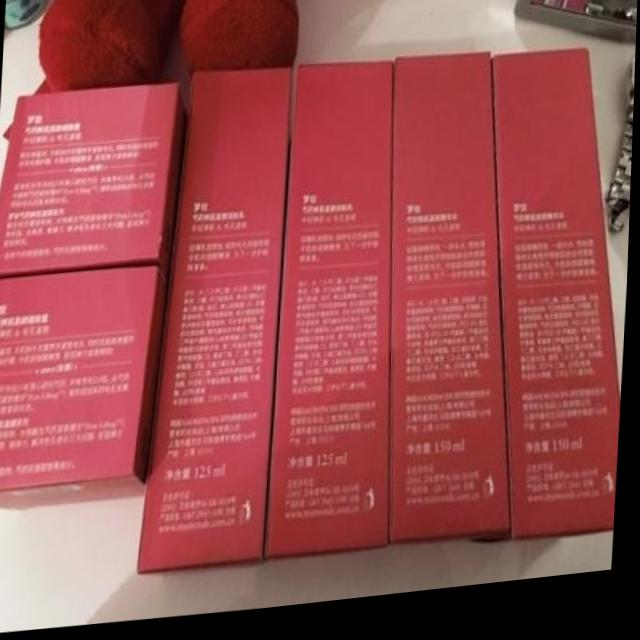box: (141, 73, 293, 577), (493, 60, 624, 551), (267, 69, 392, 567), (393, 62, 517, 552), (0, 266, 170, 510), (0, 87, 186, 279)
